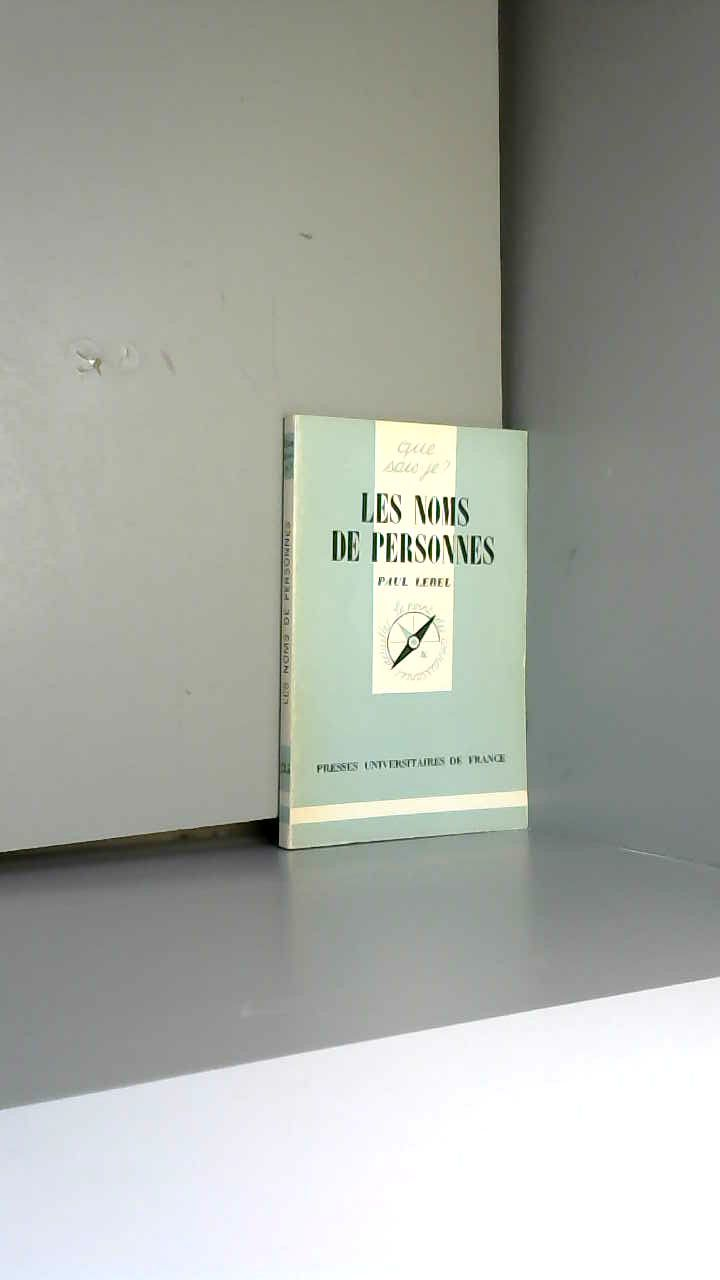book: (248, 377, 566, 897)
